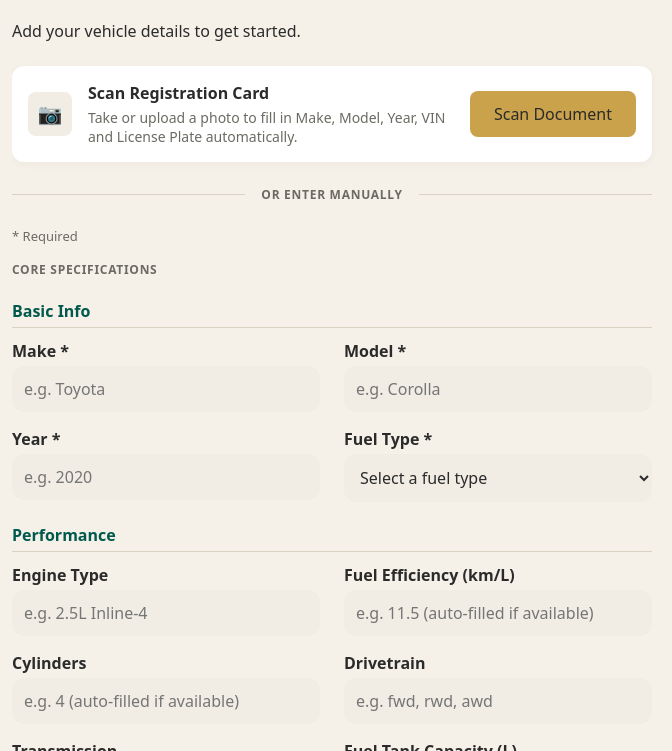
Scenario: CarOnboardingPage › shows a clear plain-language error, never the database text, and does not navigate when the insert fails: a row-level security rejection
Step 1. Type "Toyota" into the field labelled "Make *" → (166, 389), box [12, 366, 320, 412]
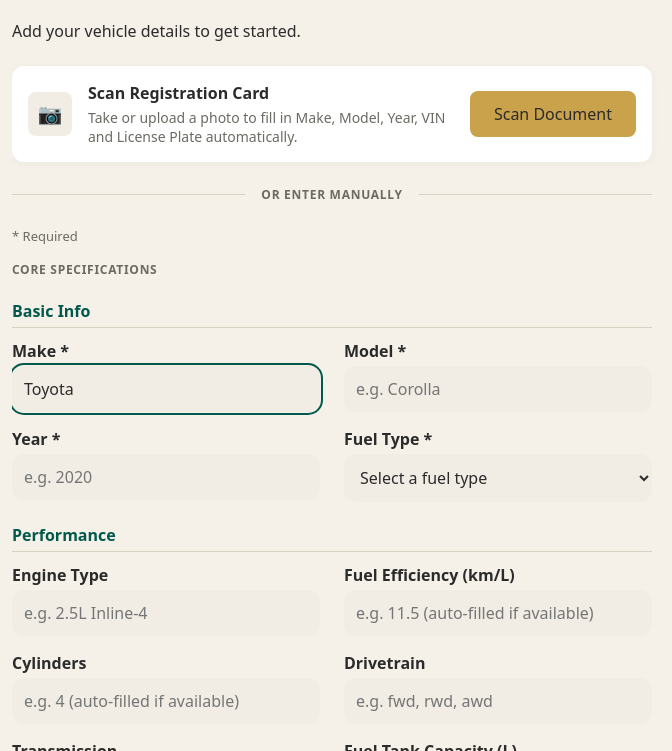
Step 2. Type "Corolla" into the field labelled "Model *" → (498, 389), box [344, 366, 652, 412]
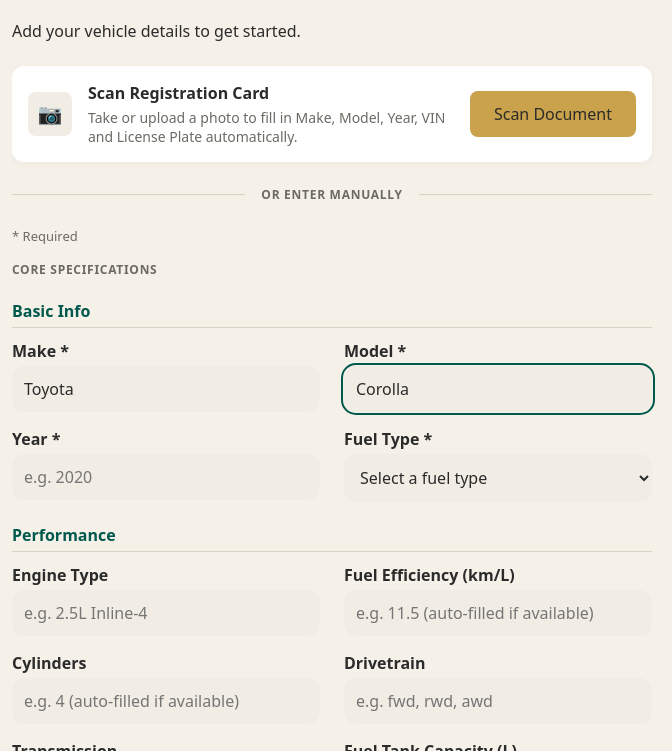
Step 3. Type "2020" into the number field labelled "Year *" → (166, 477), box [12, 454, 320, 500]
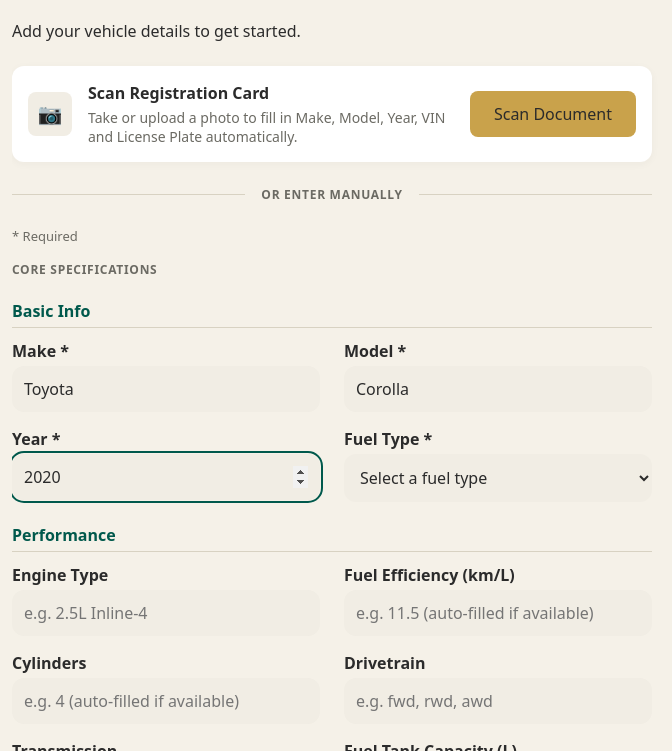
Step 4. Select "Gasoline" in the dropdown labelled "Fuel Type *" → (498, 478), box [344, 454, 652, 502]
(page scrolled)
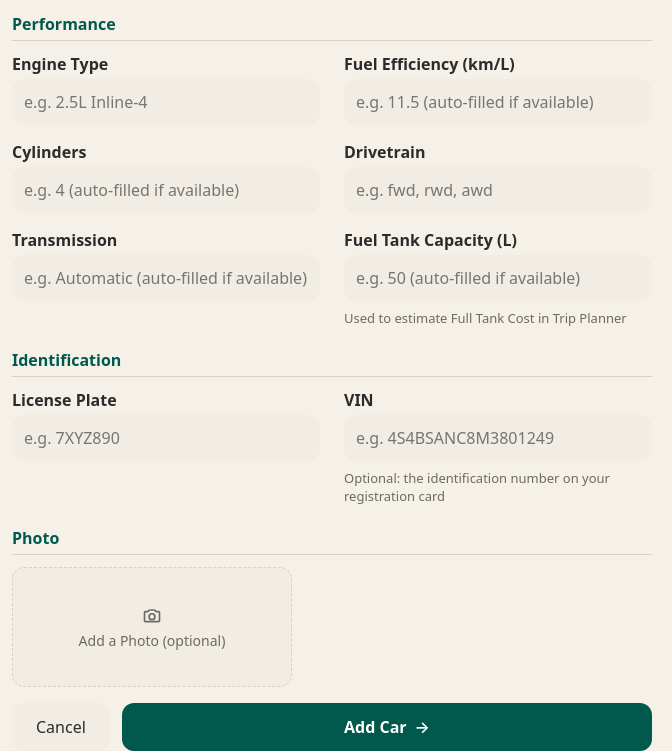
Step 5. Click the button "Add Car →" → (387, 727), box [122, 703, 652, 750]
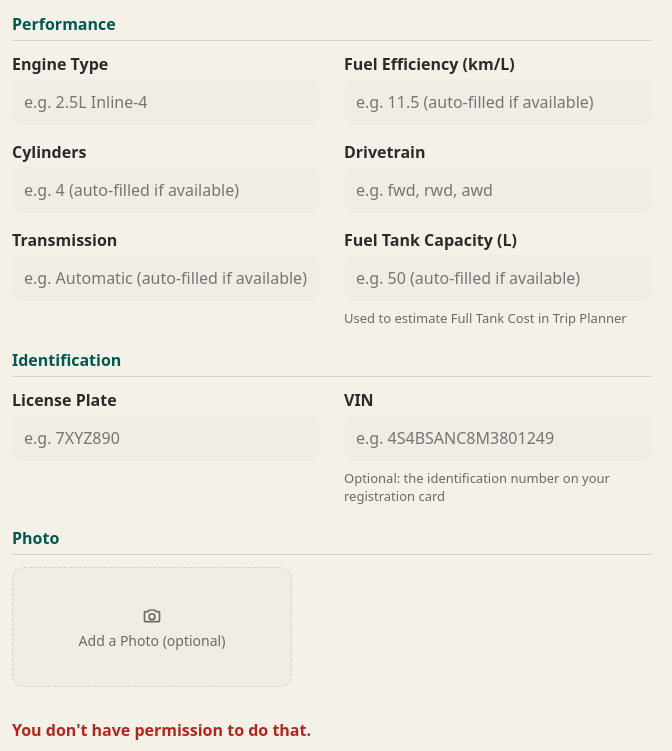
Result: the message reads "You don't have permission to do that." at [12, 719, 311, 741]
